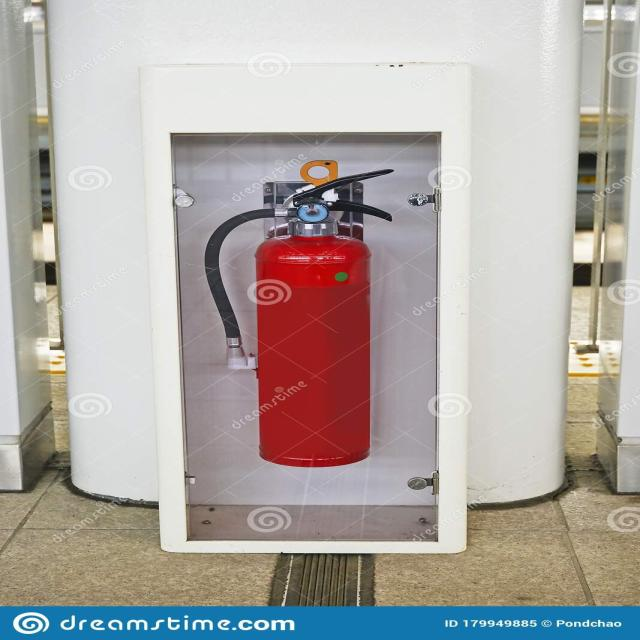fire_extinguisher: (202, 160, 400, 469)
